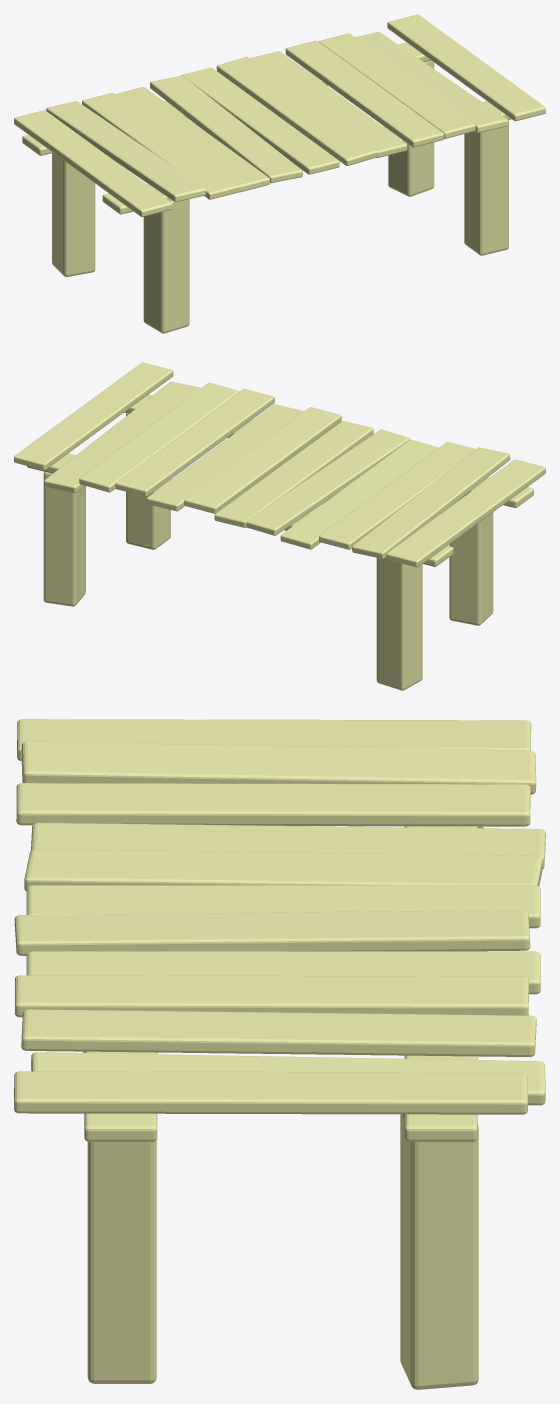
The model's file is Table.fbx.
3 renders of one model, top to bottom at view 1: azimuth 30°, elevation 25°; view 2: azimuth 150°, elevation 25°; view 3: azimuth 270°, elevation 25°, orthographic. The views are drawn at different scales.
Parts seen in each view (by area): view 1: Table.001; view 2: Table.001; view 3: Table.001.
Part boxes in pixels (bbox=[...]): Table.001: bbox=[14, 14, 545, 333]; Table.001: bbox=[14, 362, 545, 690]; Table.001: bbox=[14, 719, 545, 1389].
Size of the model in its own units: 301 by 107 by 170.
